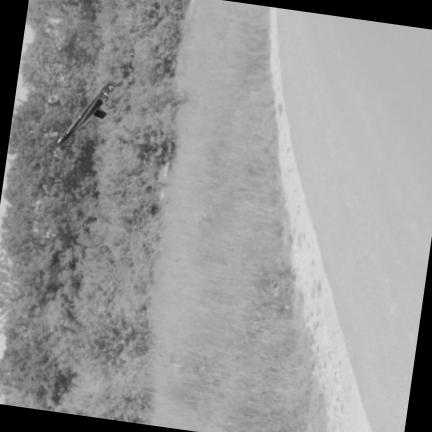Shahed: (58, 82, 115, 142)
